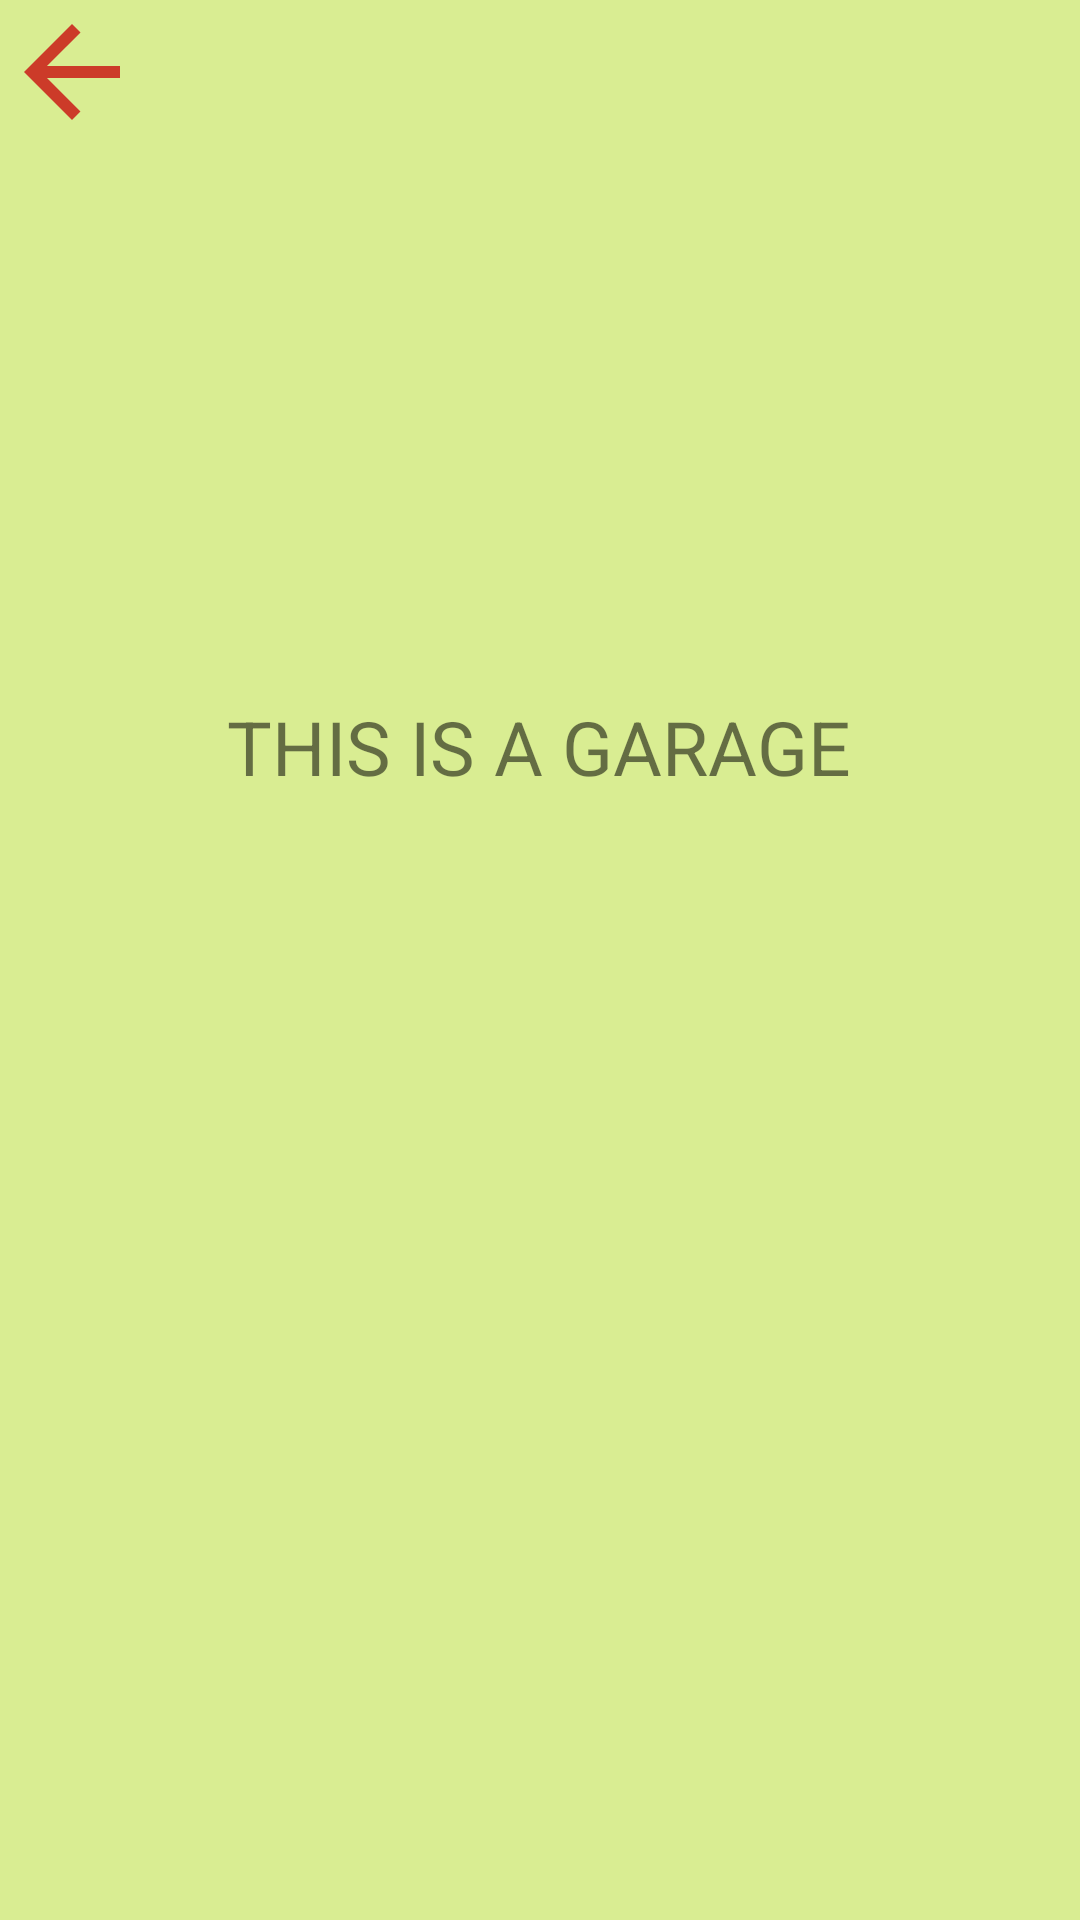

Icon bounding boxes for this 1080×1920 phone screenshot, format (x1, y1, x2, y2):
back arrow: (24, 24, 120, 120)
